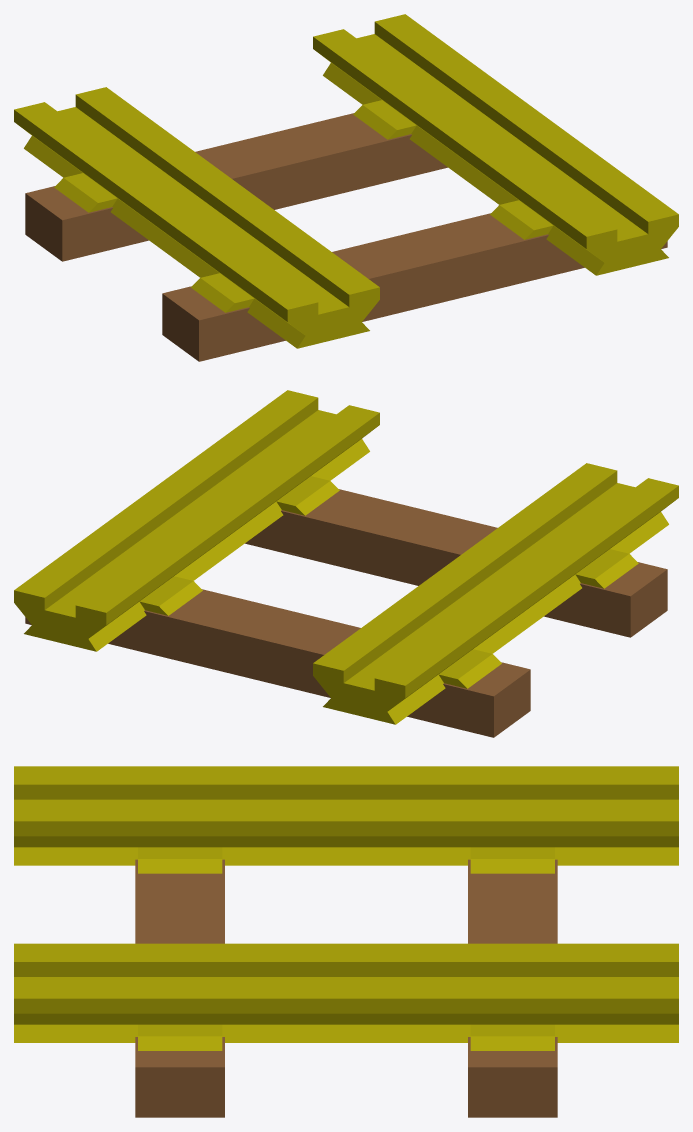
Rendered from golden_straight_track.fbx.
3 renders of one model, top to bottom at view 1: azimuth 30°, elevation 25°; view 2: azimuth 150°, elevation 25°; view 3: azimuth 270°, elevation 25°, orthographic. The views are drawn at different scales.
Visible parts, largest first — view 1: Cube.017; view 2: Cube.017; view 3: Cube.017.
Part boxes in pixels (box(x1,y1,x2,y2)): Cube.017: box(14, 14, 678, 361); Cube.017: box(14, 390, 678, 737); Cube.017: box(14, 766, 678, 1117).
Size of the model in its own units: 198 by 31.94 by 200.
